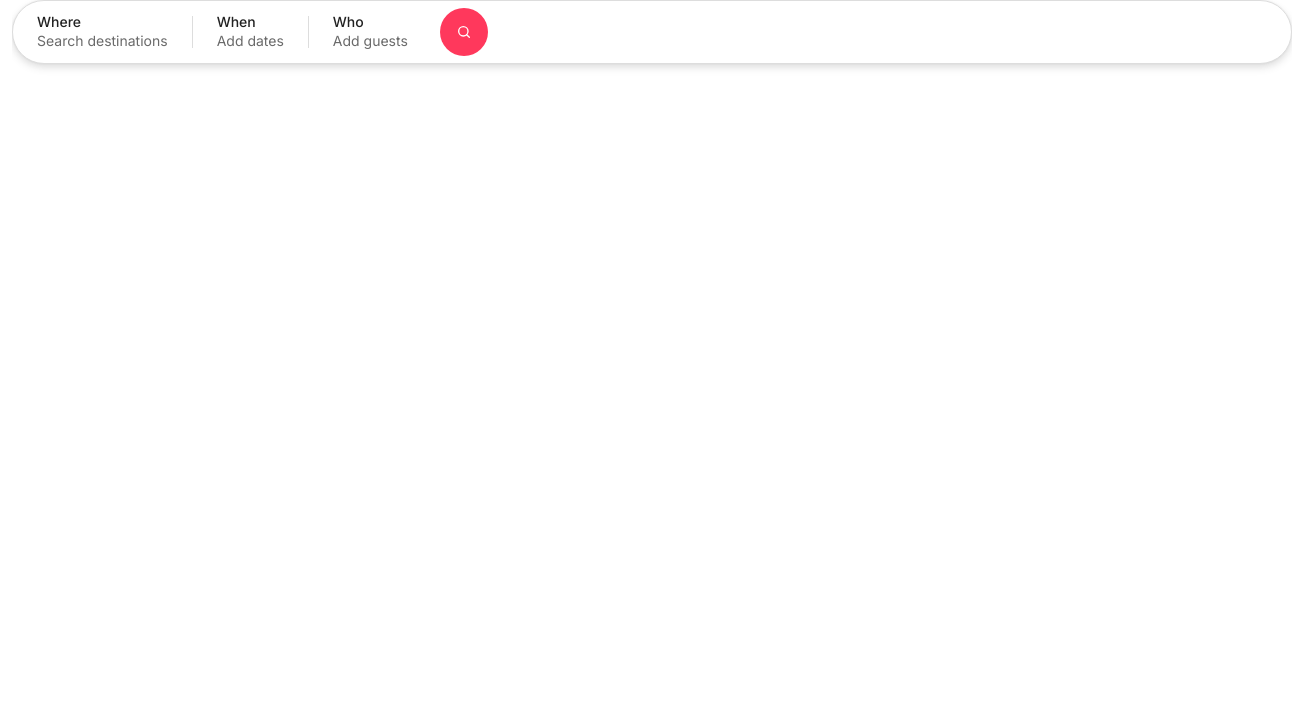
HomeSearchBar › opens the destination panel when Where is clicked
Click the button "Where Search destinations": (102, 32) top-left (13, 5), bottom-right (192, 59)
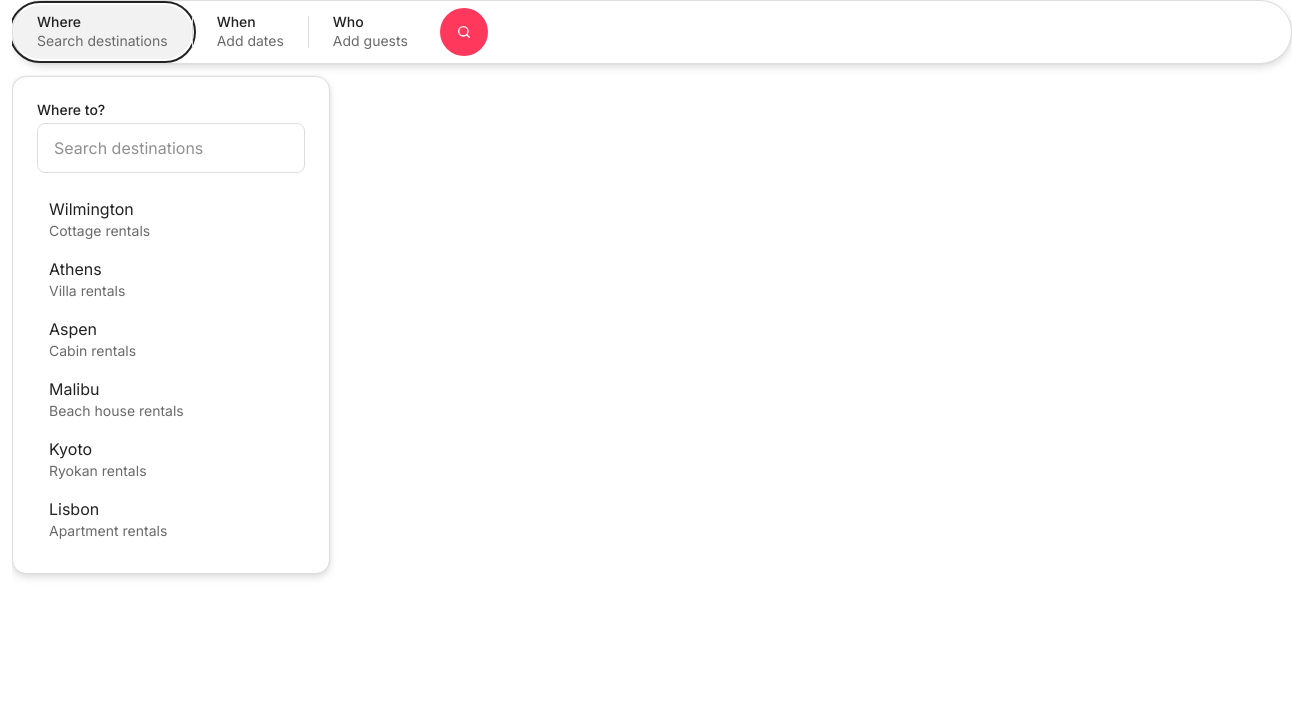
Check: the field labelled "Where to?" is shown, box top-left (37, 123), bottom-right (305, 173)
